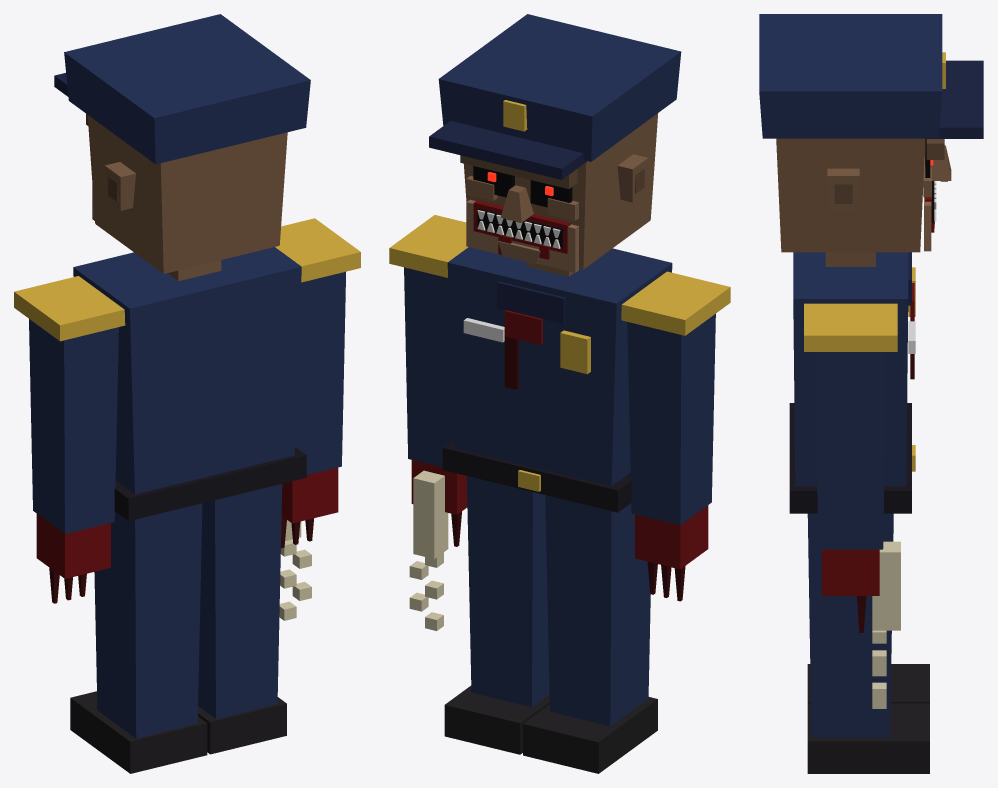
File: guard_night.glb
3 views of the same model, side by side, from view 1: azimuth 30°, elevation 25°; view 2: azimuth 150°, elevation 25°; view 3: azimuth 270°, elevation 25° (orthographic). The views are drawn at different scales.
Visible parts, largest first — view 1: Head, Torso, LegL, ArmL, LegR, ArmR; view 2: Head, Torso, LegL, ArmL, LegR, ArmR; view 3: Head, ArmR, LegR, Torso, LegL, NeckMesh.
Boxes of the visible parts, bbox=[...] form: Head: bbox=[54, 14, 310, 273]; Torso: bbox=[73, 247, 306, 520]; LegL: bbox=[70, 503, 207, 773]; ArmL: bbox=[14, 276, 125, 603]; LegR: bbox=[198, 484, 286, 754]; ArmR: bbox=[275, 218, 360, 620]; Head: bbox=[429, 14, 681, 272]; Torso: bbox=[442, 247, 672, 512]; LegL: bbox=[523, 495, 657, 773]; ArmL: bbox=[621, 271, 730, 601]; LegR: bbox=[444, 476, 549, 754]; ArmR: bbox=[389, 215, 468, 630]; Head: bbox=[759, 14, 983, 252]; ArmR: bbox=[804, 303, 900, 708]; LegR: bbox=[807, 513, 929, 773]; Torso: bbox=[789, 252, 915, 513]; LegL: bbox=[807, 664, 929, 703]; NeckMesh: bbox=[825, 252, 875, 266].
Size of the model in its own units: 0.98 by 2.1 by 0.6248.
